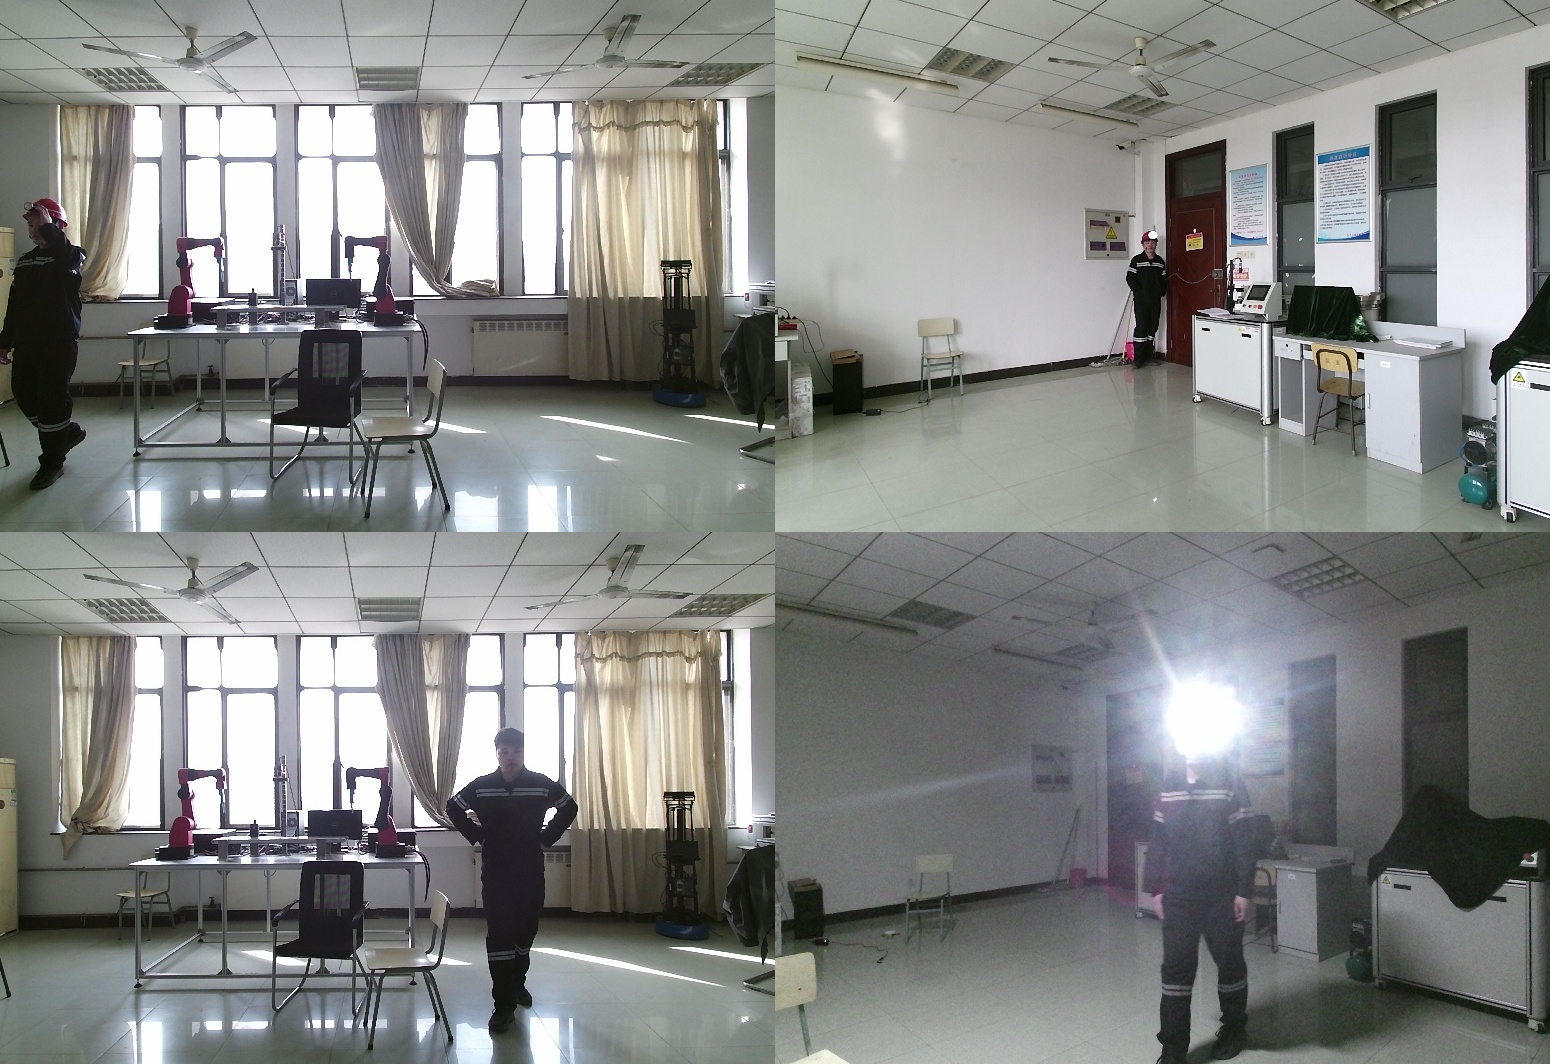person: (1154, 709, 1276, 1064), (448, 729, 589, 1030), (3, 200, 90, 488), (1124, 232, 1167, 371)
